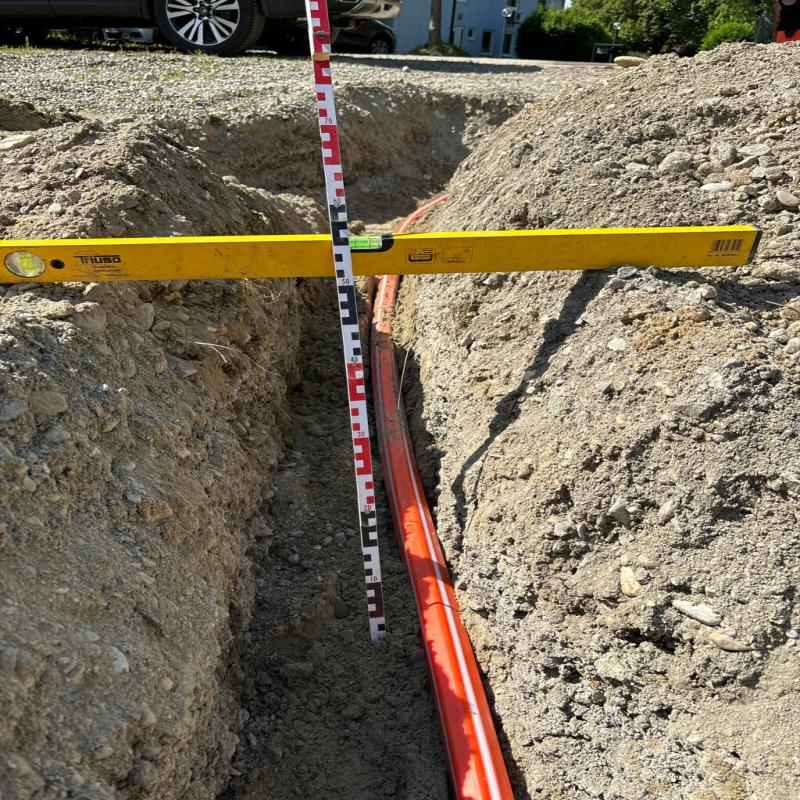Orang-Speednetrohrchen: (368, 278, 510, 800)
